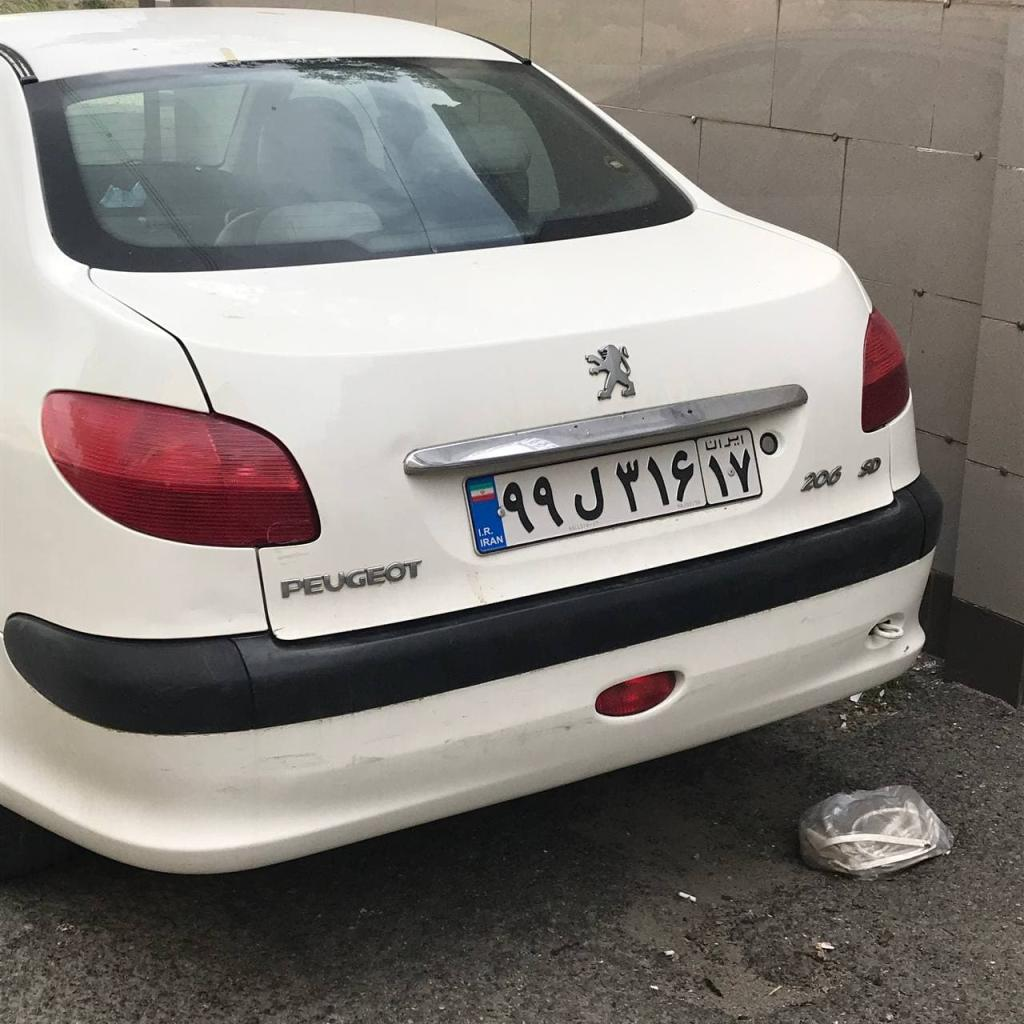Plates: (465, 428, 761, 554)
